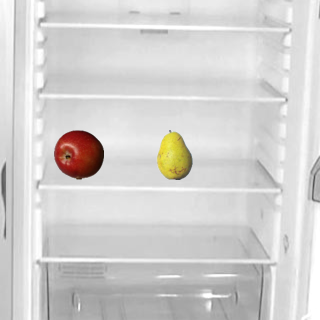Apple Braeburn: (53, 129, 103, 179)
Pear Monster: (149, 129, 199, 179)
